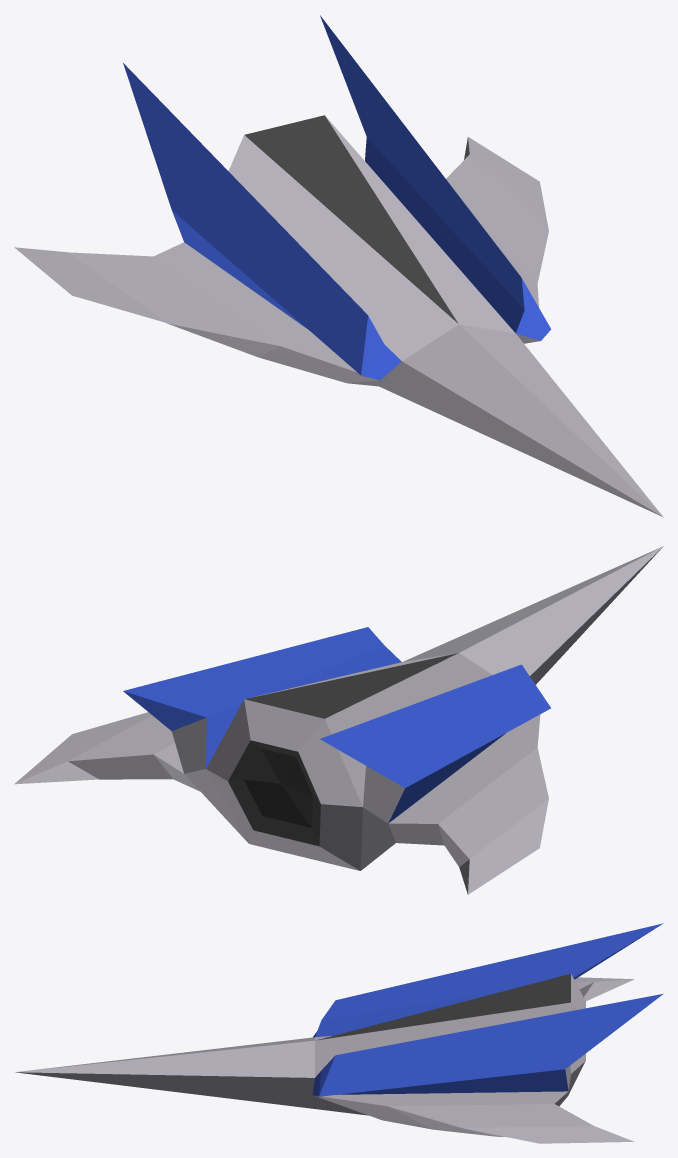
Rendered from arwing.glb.
3 views of the same model, one above another, from view 1: azimuth 30°, elevation 25°; view 2: azimuth 150°, elevation 25°; view 3: azimuth 270°, elevation 25° (orthographic). The views are drawn at different scales.
Visible parts, largest first — view 1: Cube.001; view 2: Cube.001; view 3: Cube.001.
Part boxes in pixels (x1,y1,x2,y2): Cube.001: (14,15,663,517); Cube.001: (14,546,663,894); Cube.001: (15,923,663,1143).
Size of the model in its own units: 2.96 by 1.23 by 4.86.
